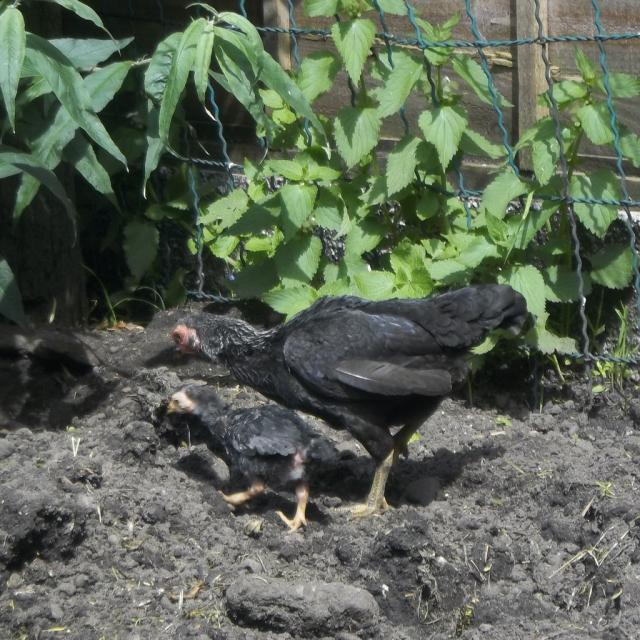Chicken: (178, 277, 536, 542)
